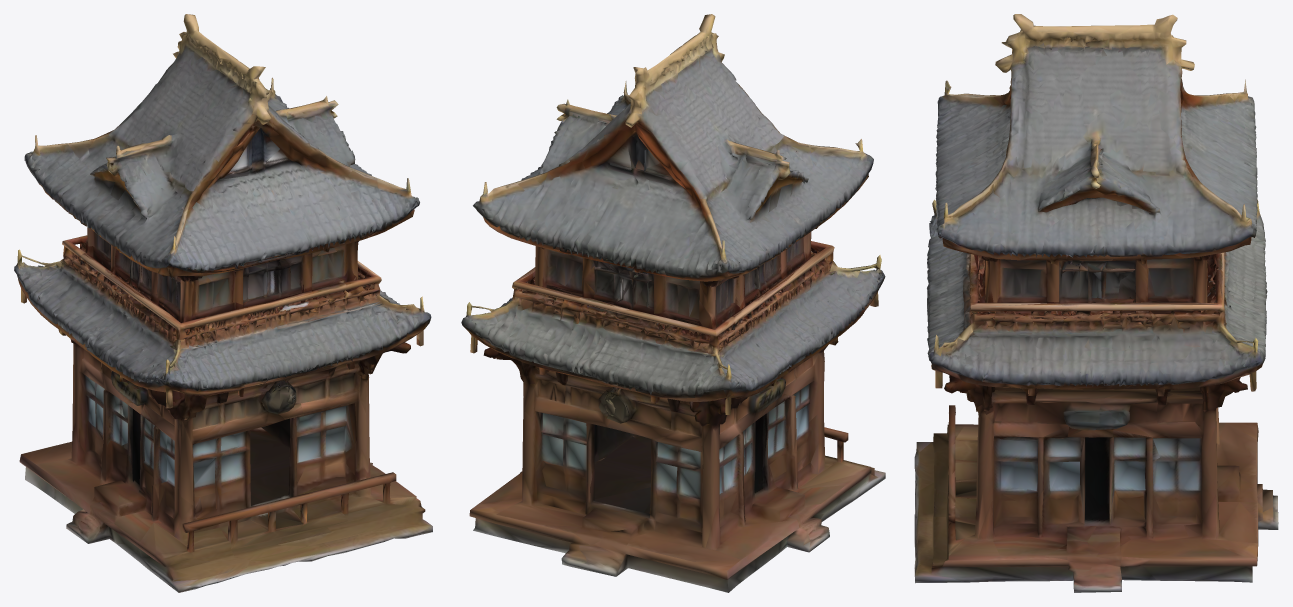
Rendered from japanese_building.glb.
The picture shows the model from 3 angles, left to right: view 1: azimuth 30°, elevation 25°; view 2: azimuth 150°, elevation 25°; view 3: azimuth 270°, elevation 25°; orthographic projection. The views are drawn at different scales.
Parts seen in each view (by area): view 1: japanese_building; view 2: japanese_building; view 3: japanese_building.
Part boxes in pixels (x1,y1,x2,y2): japanese_building: (14, 14, 432, 592); japanese_building: (461, 14, 885, 592); japanese_building: (914, 14, 1278, 592).
Size of the model in its own units: 1.31 by 2 by 1.31.
Materials: 1 (1 with a texture image).
